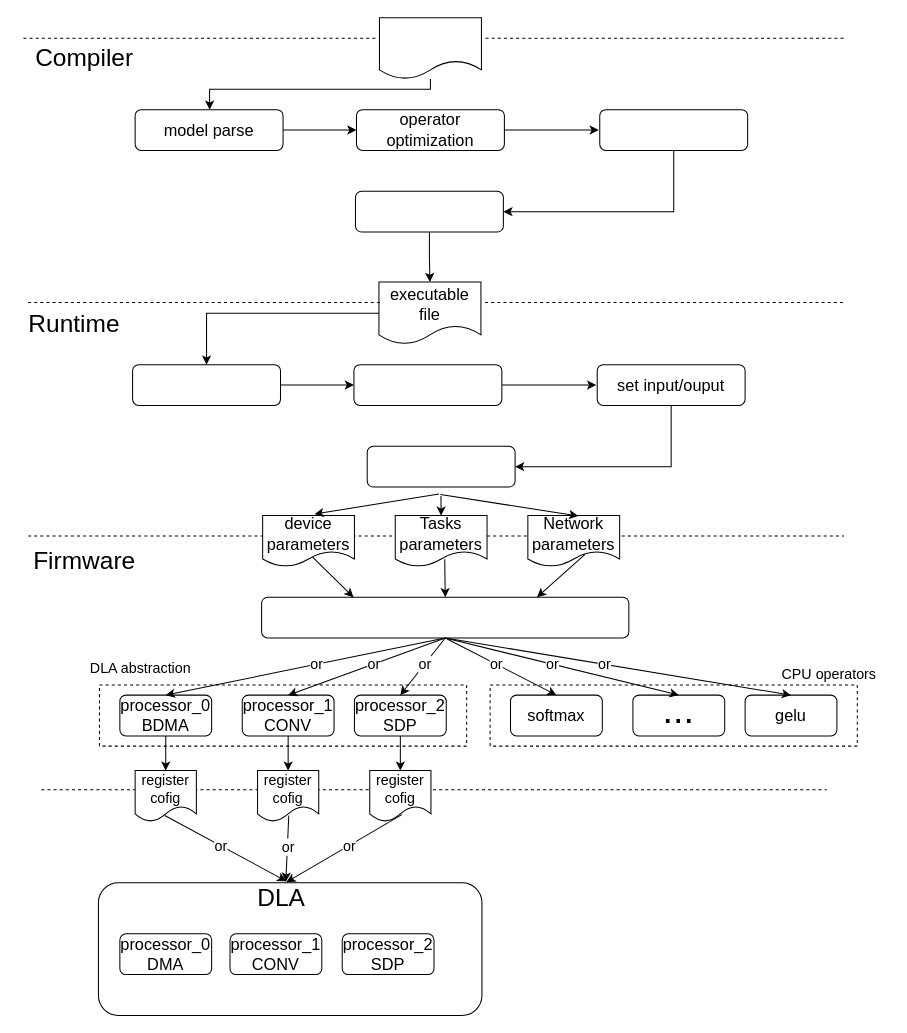
Image size: 907x1033. Some labels were removed from this diagram. Here are the shapes that lost their labels. From the top down, the centre of each, then its label:
At pixel 429 48: "Framework NN model".
At pixel 673 129: "quantization".
At pixel 428 211: "Codegen".
At pixel 206 384: "file parse".
At pixel 427 384: "allocate memory".
At pixel 440 466: "generate tasks and run".
At pixel 445 617: "AI engine deploy module".
